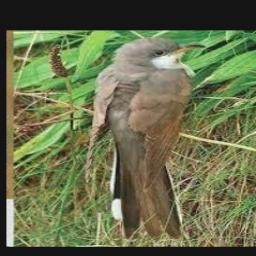Cuckoo: (91, 38, 206, 236)
